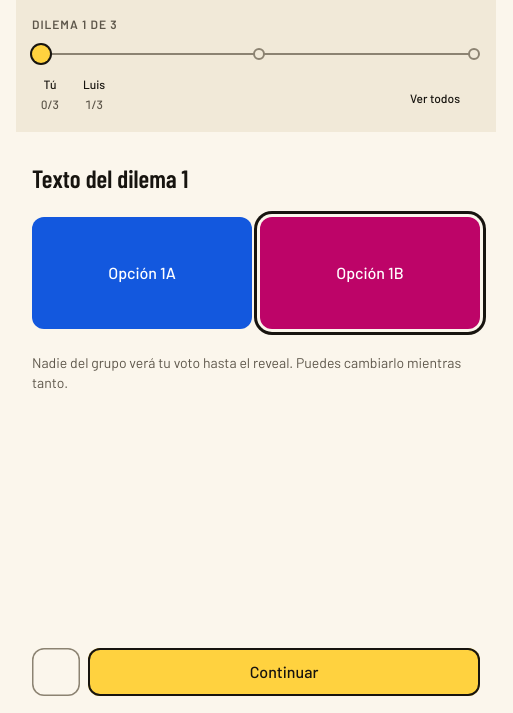
it: DilemmaScreen › should not send anything when the player continues without changing the vote
The width and height of the screenshot is (513, 713).
Click the button "Continuar" at (284, 672), box [88,648,480,696]
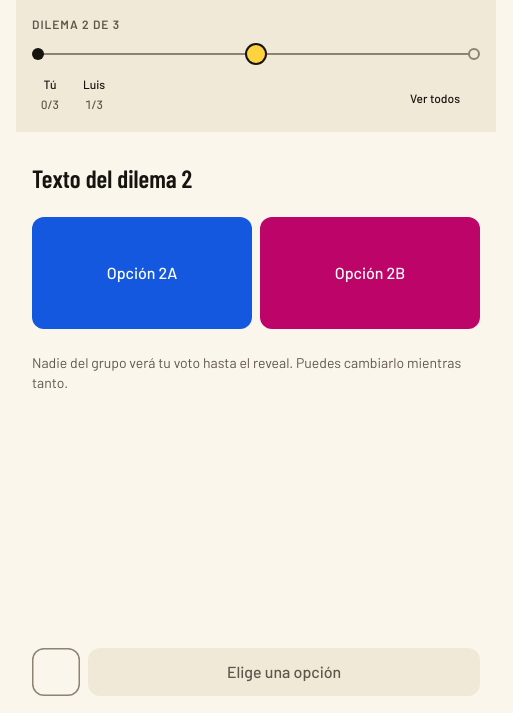
Expected: the heading "Texto del dilema 2" is shown, [32,163,192,193]
